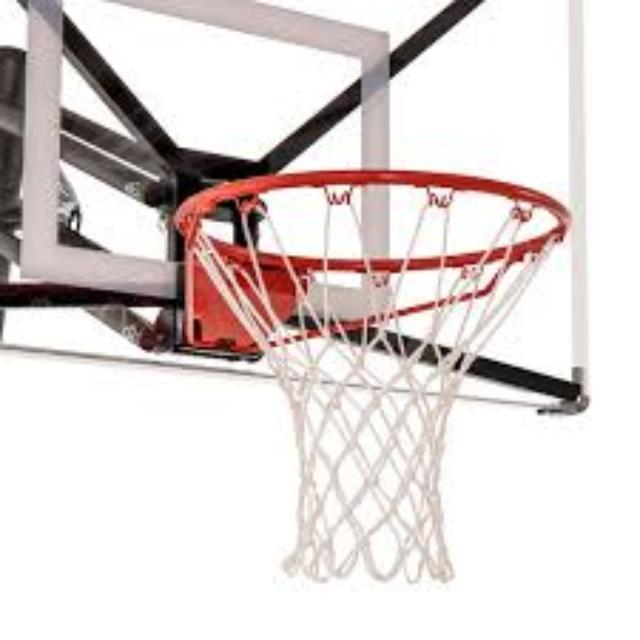rim: (175, 170, 569, 582)
